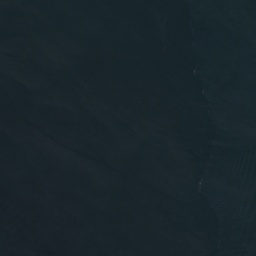Marine Debris: (197, 156, 214, 195)
